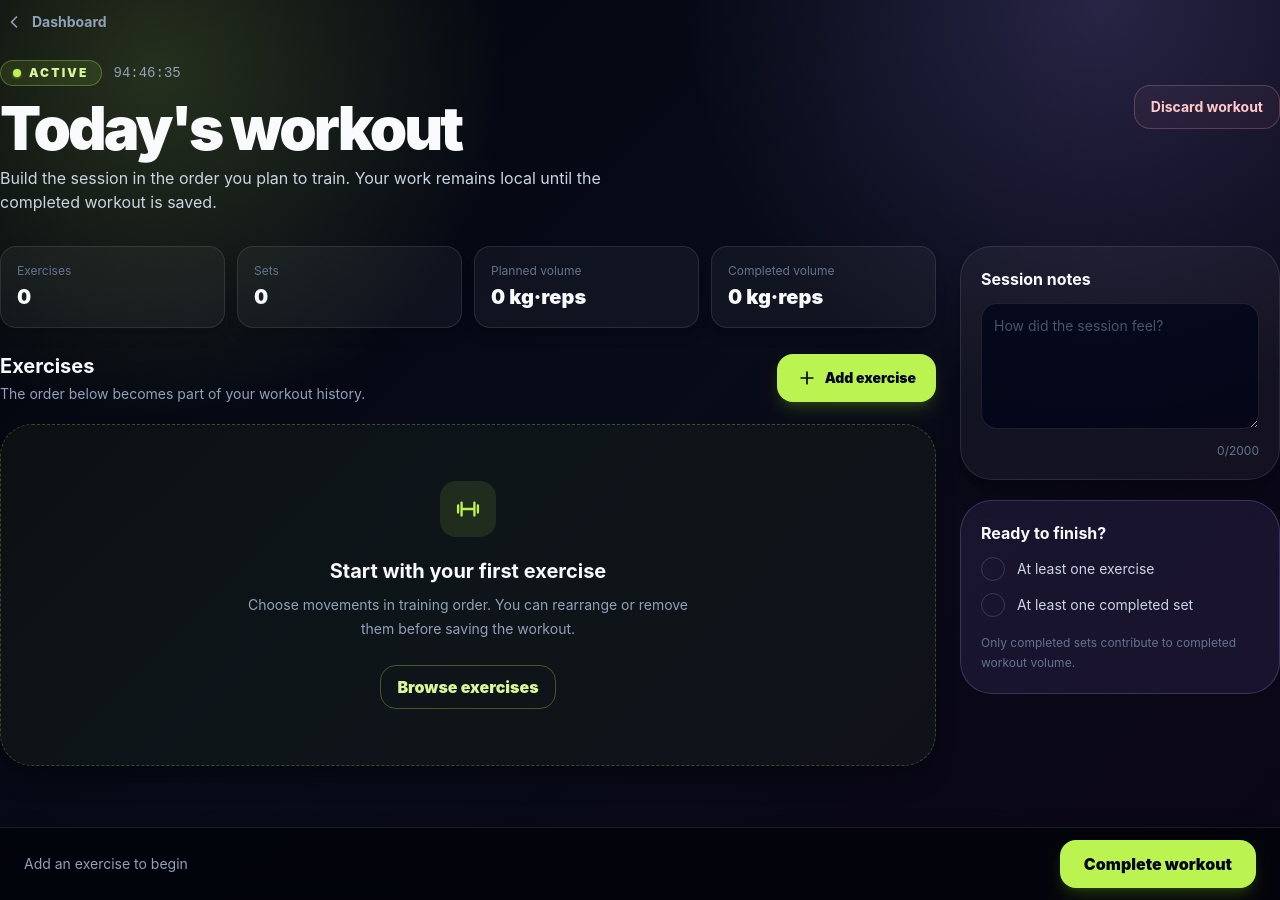
Test: ActiveWorkoutScreen › loads and copies previous values into today's draft
Click the button "Browse exercises" at {"x": 468, "y": 687}, box [380,665,556,709]
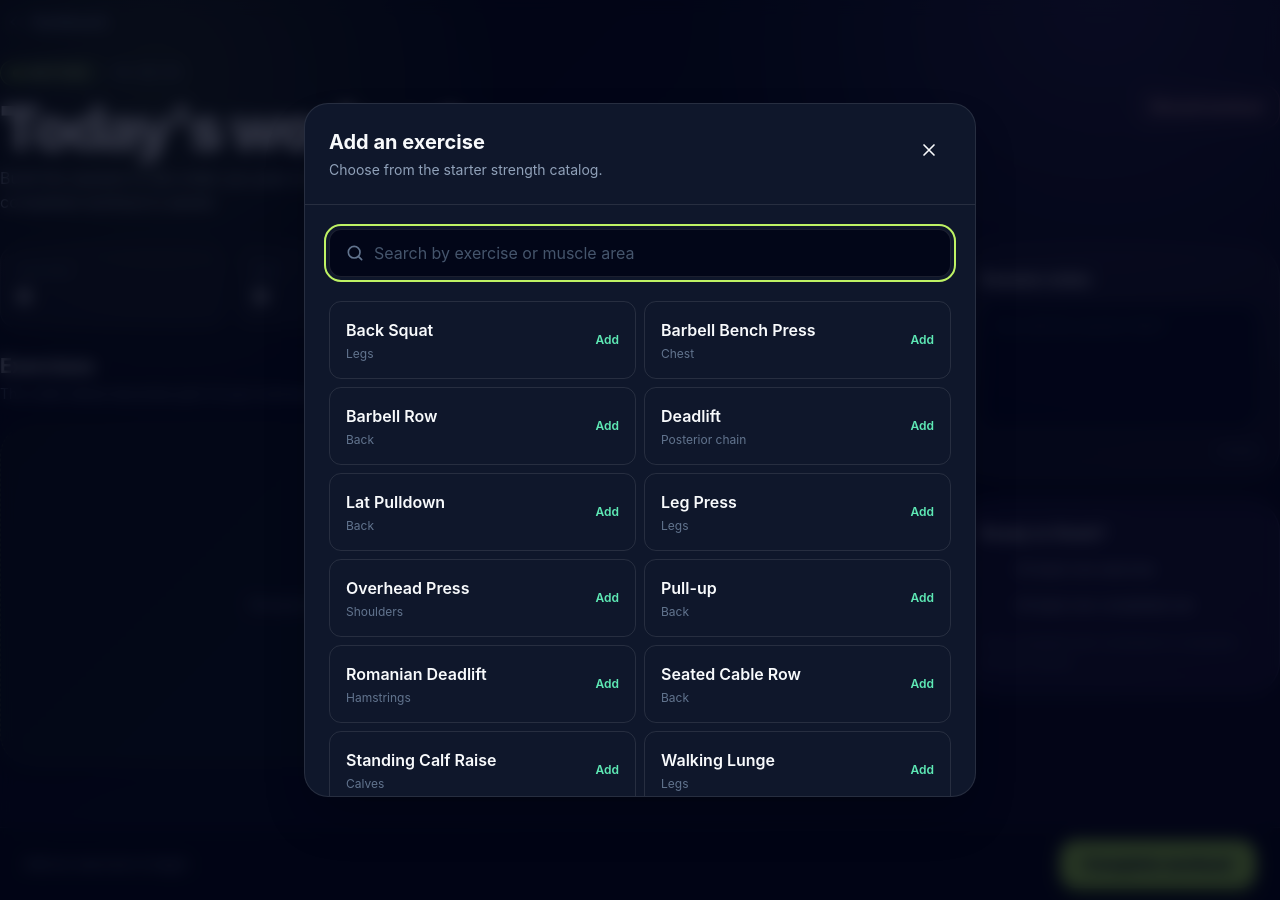
Click the button "Back Squat Legs Add" at {"x": 390, "y": 330}, box [329,301,636,379]
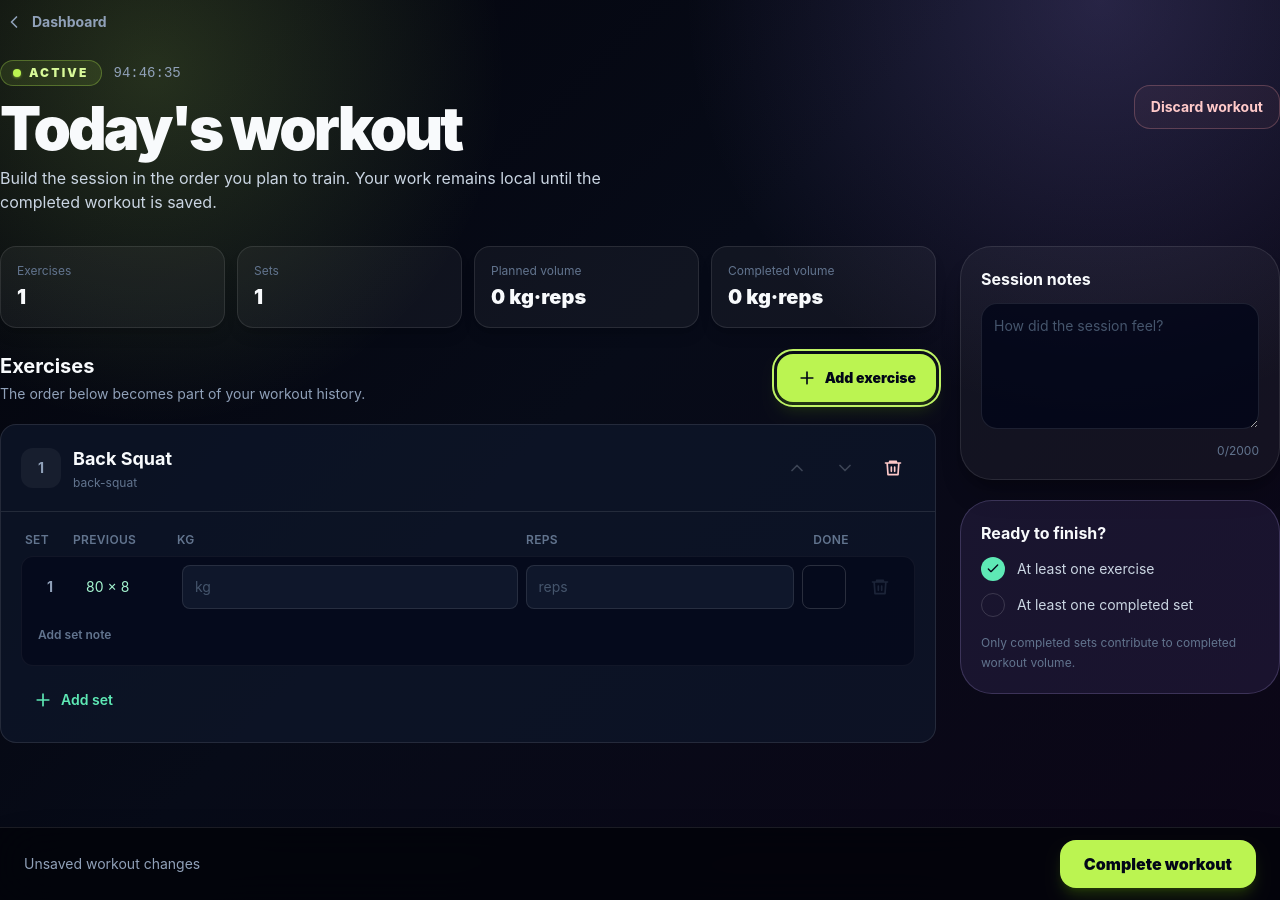
Click the button "80 × 8" at {"x": 108, "y": 587}, box [78,565,137,609]
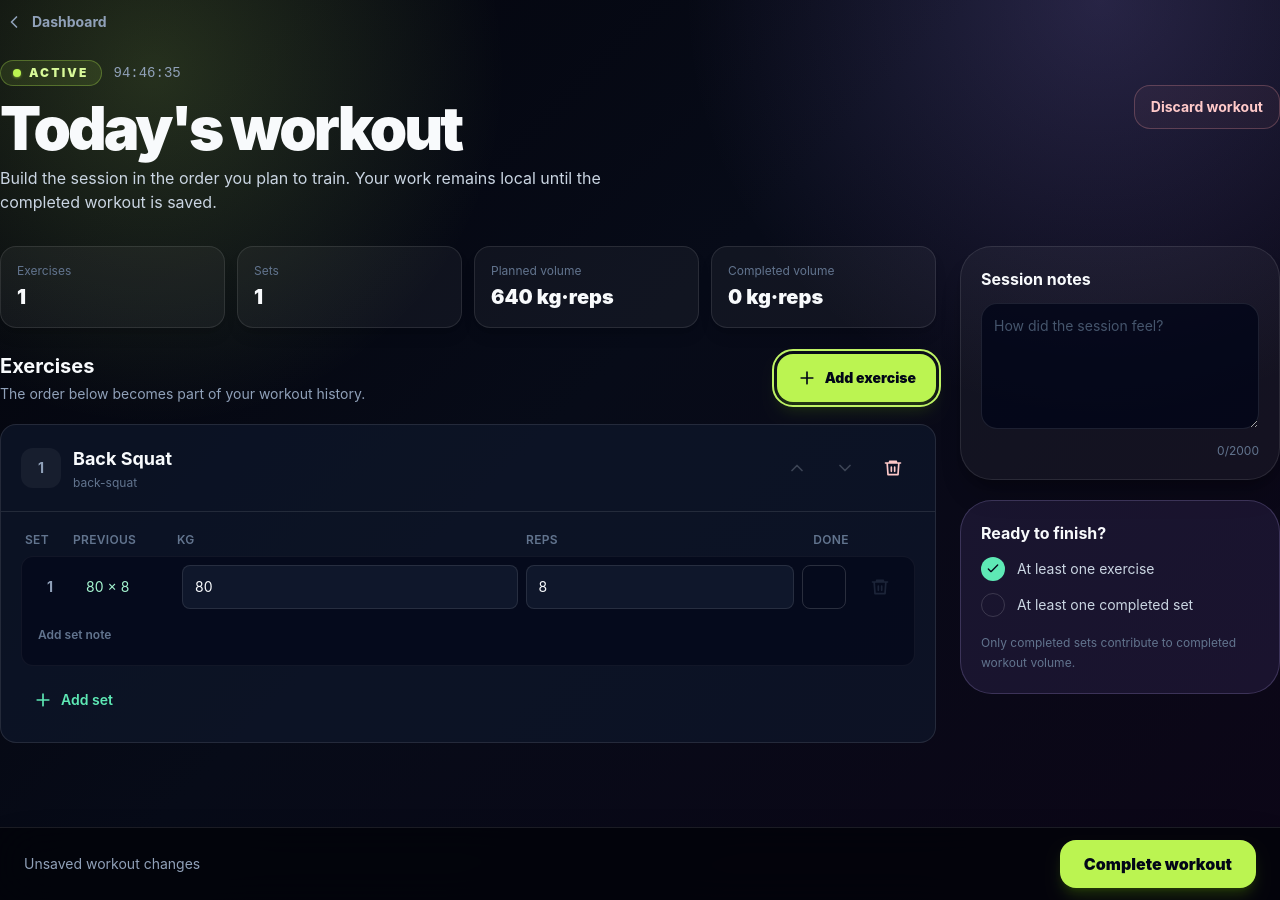
Expected: the 1st number field named "back squat set 1 weight in kilograms" holds "80", [182,565,518,609]
Expected: the 2nd number field named "back squat set 1 repetitions" holds "8", [526,565,794,609]
